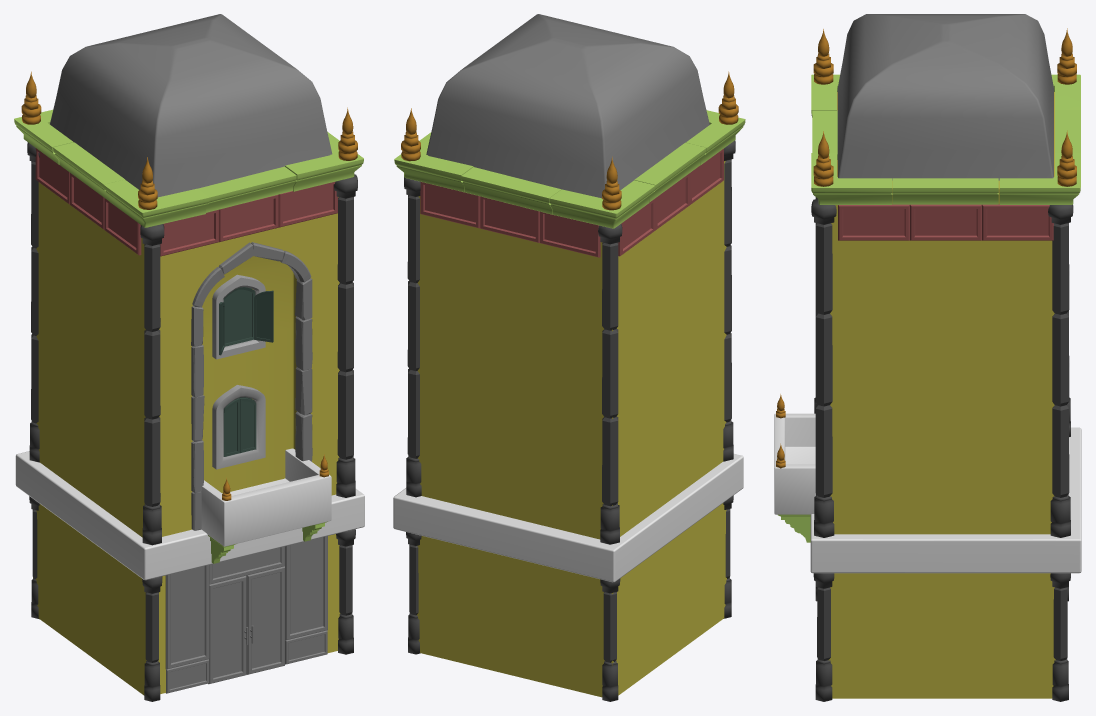
File: SM_building_india_05.fbx
3 renders of one model, left to right at view 1: azimuth 30°, elevation 25°; view 2: azimuth 150°, elevation 25°; view 3: azimuth 270°, elevation 25°, orthographic. The views are drawn at different scales.
Visible parts, largest first — view 1: Object32669; view 2: Object32669; view 3: Object32669.
Boxes of the visible parts, <box> form: Object32669: <box>14,14,364,701</box>; Object32669: <box>393,14,745,701</box>; Object32669: <box>774,14,1081,701</box>.
Size of the model in its own units: 222 by 560 by 253.
